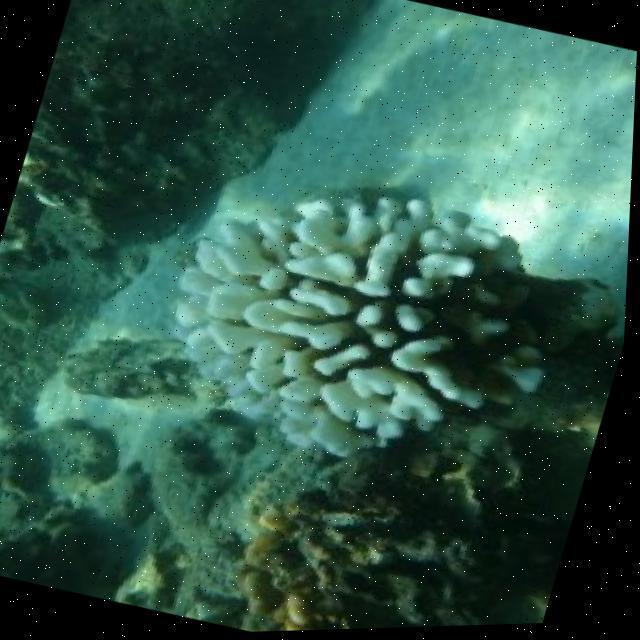Dead Coral: (168, 184, 599, 434), (302, 446, 568, 627)
